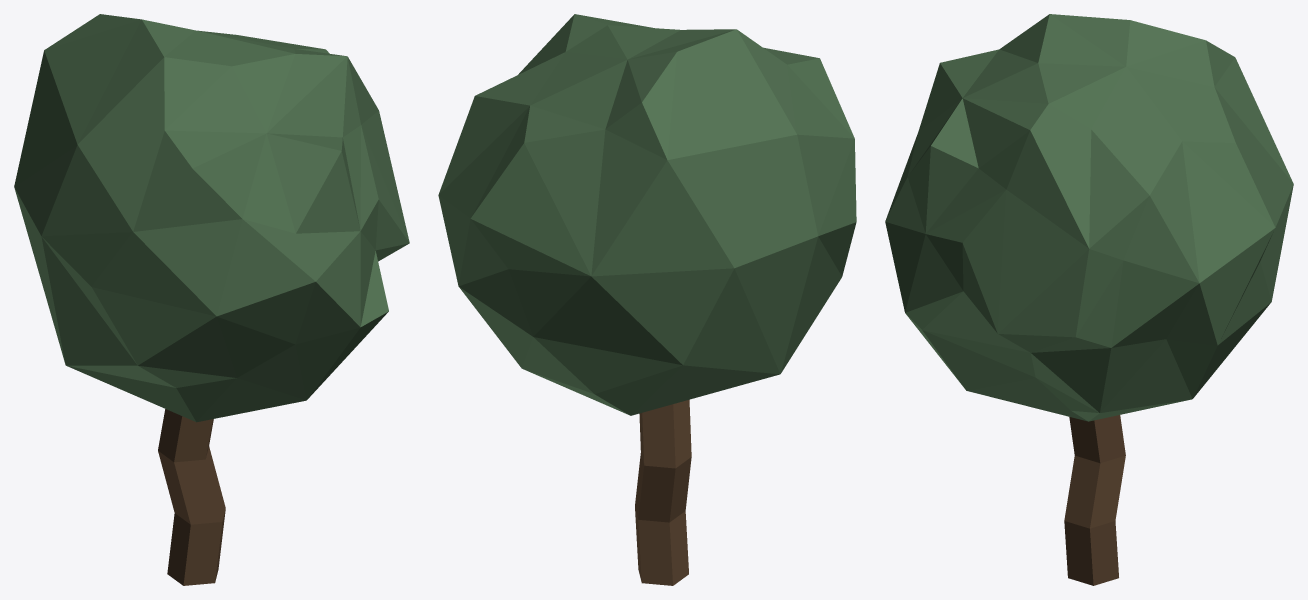
The model's file is O_Tree_2.fbx.
3 views of the same model, side by side, from view 1: azimuth 30°, elevation 25°; view 2: azimuth 150°, elevation 25°; view 3: azimuth 270°, elevation 25° (orthographic). The views are drawn at different scales.
Visible parts, largest first — view 1: O_Tree_2; view 2: O_Tree_2; view 3: O_Tree_2.
Boxes of the visible parts, left/top/right/bottom form: O_Tree_2: left=14, top=14, right=409, bottom=585; O_Tree_2: left=438, top=14, right=856, bottom=585; O_Tree_2: left=885, top=14, right=1293, bottom=585.
Size of the model in its own units: 0.1445 by 0.2206 by 0.1518.
